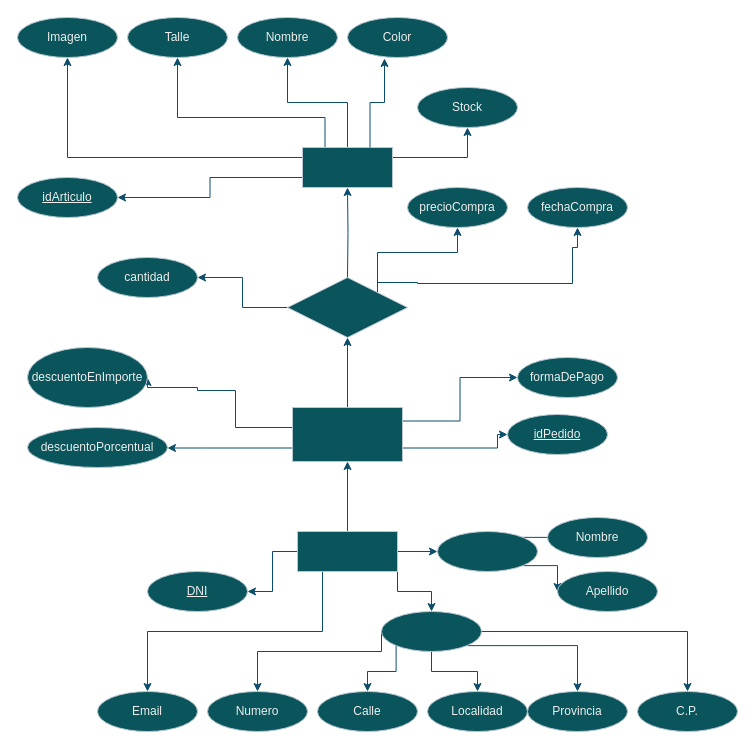
This 755x749 diagram has some shape labels left out. The shapes that lost their labels are listed below. From the top down, each one's box as (x1, y1, x2, y2) in pixels, then its label:
(302, 146, 392, 188): Articulo
(286, 276, 408, 338): Compra
(292, 406, 402, 462): Factura
(296, 530, 398, 572): Cliente
(436, 530, 538, 572): nombreYApellido
(380, 610, 482, 652): Direccion
